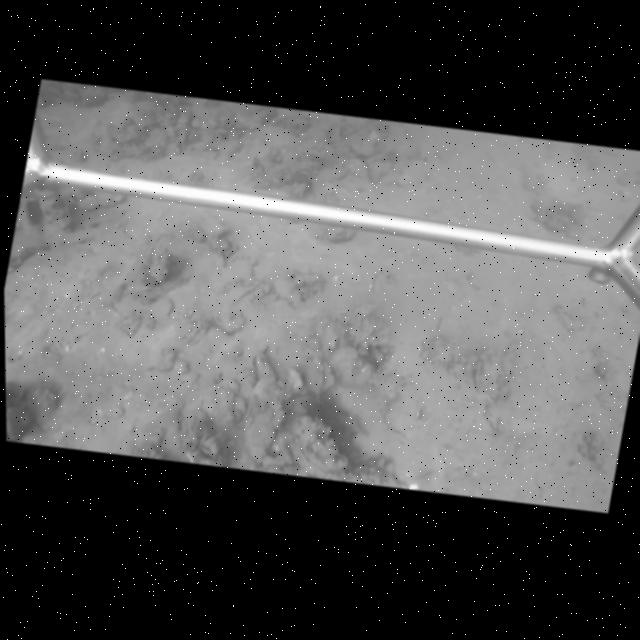Oyster-Closed: (237, 403, 276, 469), (292, 435, 336, 479), (330, 344, 359, 387), (214, 308, 247, 333), (254, 350, 277, 382), (232, 285, 258, 306), (318, 168, 350, 183), (153, 297, 175, 317), (276, 384, 291, 407), (350, 143, 372, 156), (206, 224, 227, 236)
Oyster-Indeterminate: (382, 395, 420, 432), (6, 406, 33, 440), (483, 399, 500, 431), (343, 157, 368, 177), (250, 157, 266, 177)
